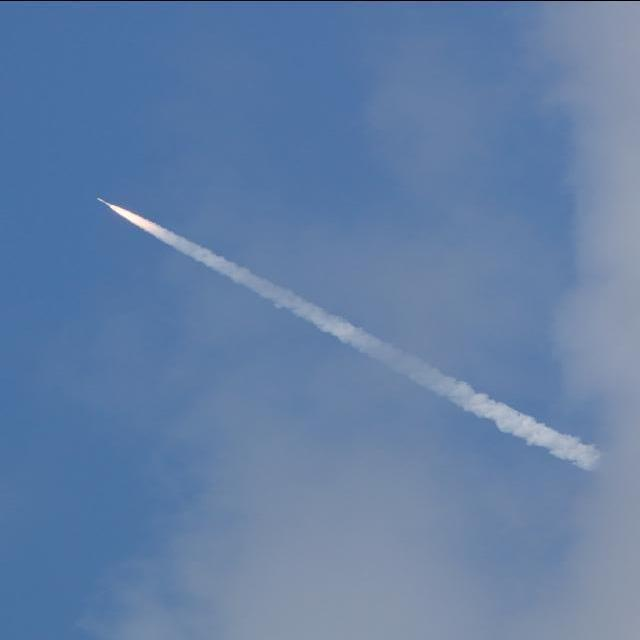missile: (93, 194, 120, 216)
